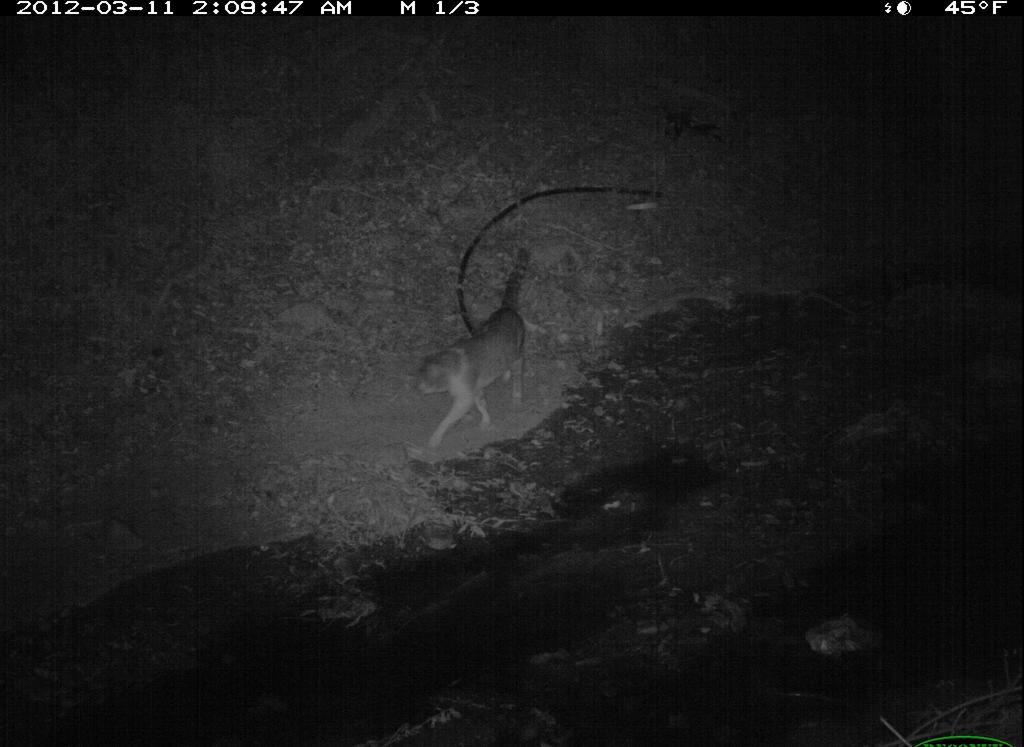cat: (406, 239, 542, 465)
